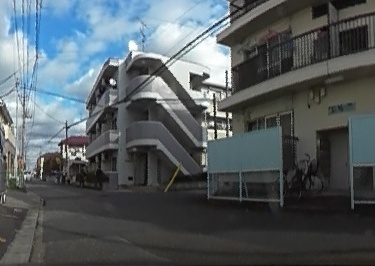person: (94, 163, 105, 188), (76, 165, 87, 187)
